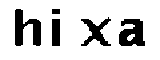a: (118, 18, 149, 50)
h: (10, 6, 44, 52)
i: (48, 6, 67, 49)
x: (77, 16, 111, 49)
